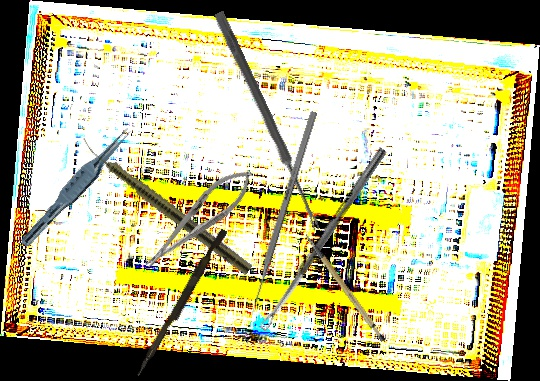Handpiece: (75, 135, 255, 277)
Needle Holder: (135, 158, 262, 279)
Pusher: (246, 110, 318, 320), (135, 226, 228, 380)
Scalpel Handle: (304, 223, 388, 351)
Surgical Spoon: (212, 10, 324, 232), (257, 146, 388, 332)
Tissue Forceps: (18, 120, 136, 255)
